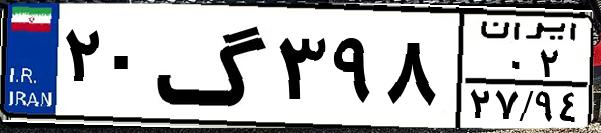0: (110, 28, 156, 98), (508, 27, 537, 80)
2: (57, 26, 110, 100), (537, 27, 568, 80), (470, 70, 495, 125)
3: (270, 28, 330, 110)
4: (560, 70, 590, 125)
7: (495, 70, 520, 125)
8: (385, 28, 445, 110)
9: (330, 28, 385, 110), (535, 70, 560, 125)
گ: (156, 12, 270, 120)
